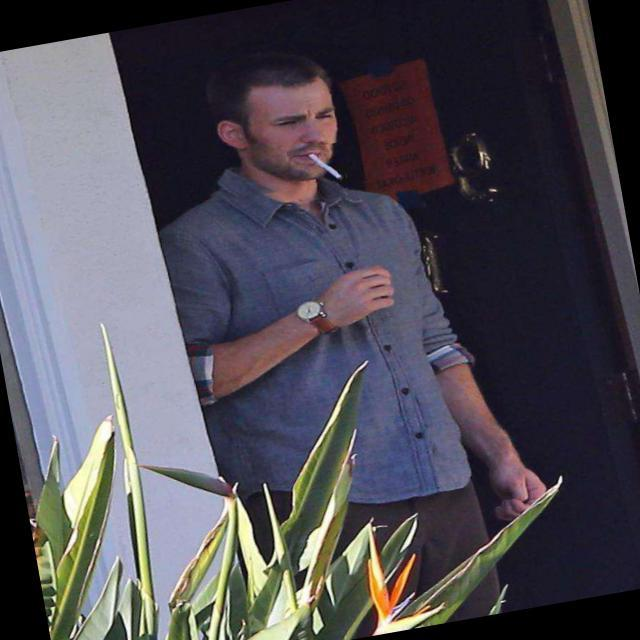cigarette: (286, 142, 350, 206)
